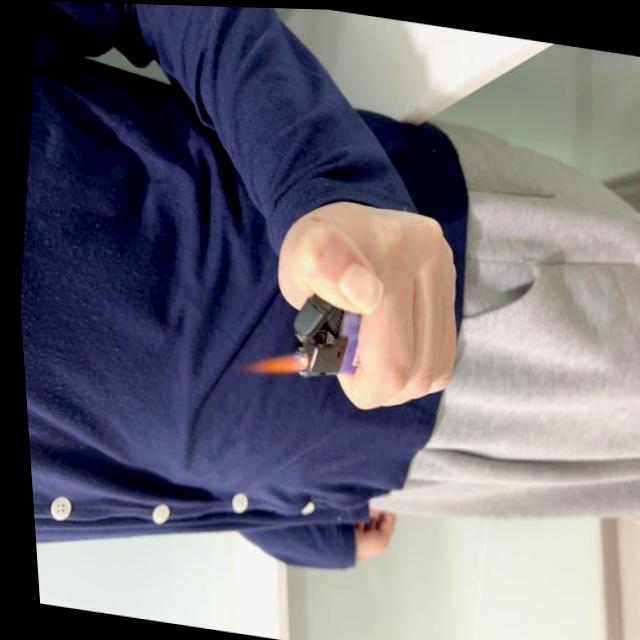helmet: (234, 341, 308, 378)
